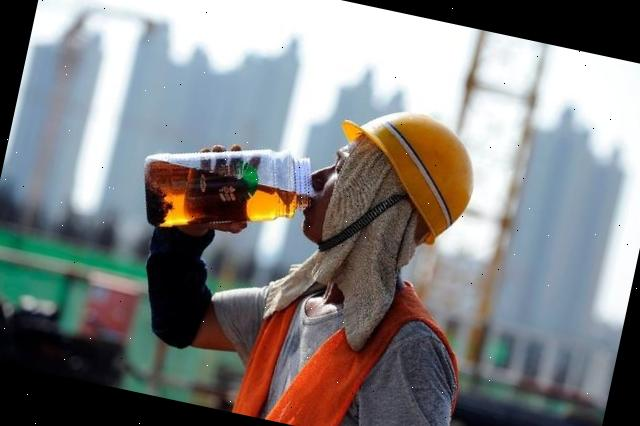helmet: (322, 93, 492, 253)
wear: (221, 256, 482, 426)
